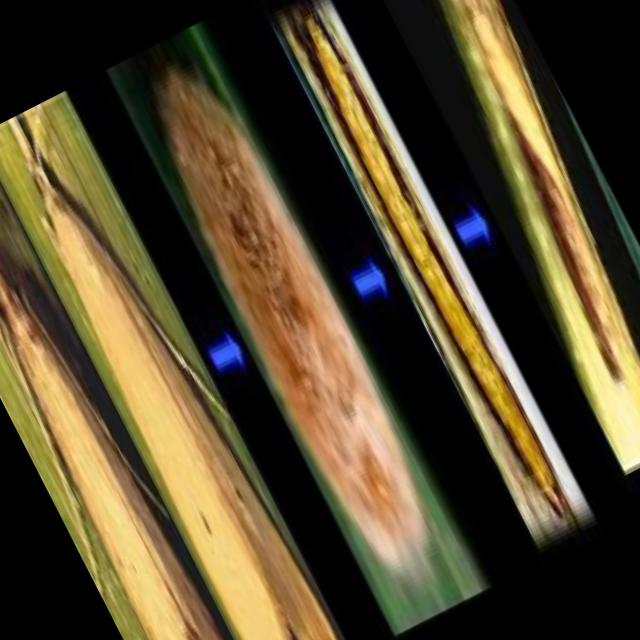stem-borer: (0, 92, 348, 640), (0, 138, 256, 640)
